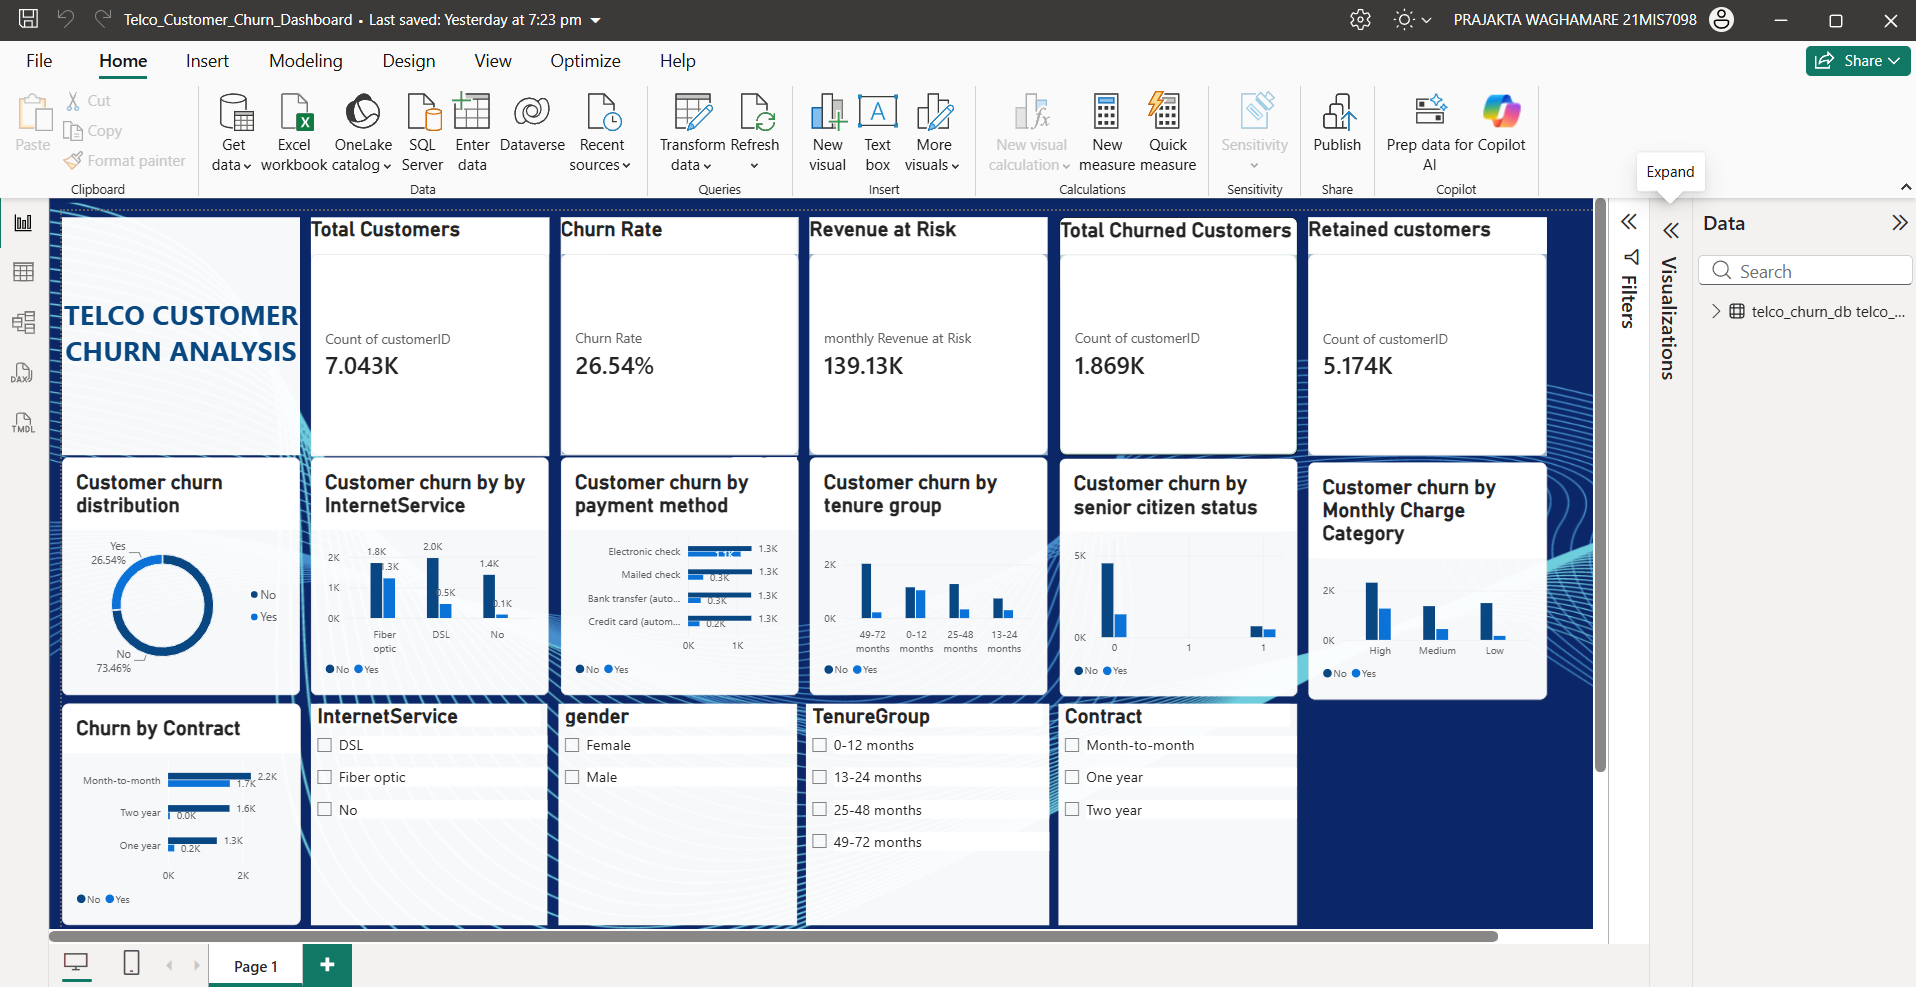

The dashboard page shown, as its layout file describes it:
{"tool":"powerbi","page":{"name":"Page 1","canvas":[1920,1080],"ordinal":0},"visuals":[{"type":"cardVisual","title":"Total Customers","fields":{"Data":["CountNonNull(telco_churn_db telco_customers.customerID)"]},"box":[293.1,8,280.7,280.7],"z":0},{"type":"cardVisual","title":"Total Churned Customers","fields":{"Data":["Count(telco_churn_db telco_customers.customerID)"]},"box":[1173,8,280,280],"z":1000},{"type":"cardVisual","title":"Retained customers","fields":{"Data":["Count(telco_churn_db telco_customers.customerID)"]},"box":[1465.6,7.3,280.6,280.6],"z":2000},{"type":"cardVisual","title":"Churn Rate","fields":{"Data":["telco_churn_db telco_customers.Churn Rate"]},"box":[586.8,8,280,280],"z":3000},{"type":"cardVisual","title":"Revenue at Risk","fields":{"Data":["telco_churn_db telco_customers.monthly Revenue at Risk"]},"box":[879.9,8,280,280],"z":4000},{"type":"clusteredBarChart","title":"Churn by Contract","fields":{"Category":["telco_churn_db telco_customers.Contract"],"Series":["telco_churn_db telco_customers.Churn"],"Y":["Count(telco_churn_db telco_customers.customerID)"]},"box":[0,579.6,280.6,260.5],"z":5000},{"type":"donutChart","title":"Customer churn distribution","fields":{"Category":["telco_churn_db telco_customers.Churn"],"Y":["CountNonNull(telco_churn_db telco_customers.customerID)"]},"box":[0,290,280,280],"z":5001},{"type":"clusteredColumnChart","title":"Customer churn by by InternetService ","fields":{"Category":["telco_churn_db telco_customers.InternetService"],"Series":["telco_churn_db telco_customers.Churn"],"Y":["Count(telco_churn_db telco_customers.customerID)"]},"box":[293.2,290.2,279.9,279.9],"z":5002},{"type":"clusteredBarChart","title":"Customer churn by payment method","fields":{"Category":["telco_churn_db telco_customers.PaymentMethod"],"Series":["telco_churn_db telco_customers.Churn"],"Y":["Count(telco_churn_db telco_customers.customerID)"]},"box":[586.4,290.2,279.9,279.9],"z":5003},{"type":"clusteredColumnChart","title":"Customer churn by tenure group","fields":{"Category":["telco_churn_db telco_customers.TenureGroup"],"Series":["telco_churn_db telco_customers.Churn"],"Y":["Count(telco_churn_db telco_customers.customerID)"]},"box":[879.6,290.2,280,280],"z":5004},{"type":"clusteredColumnChart","title":"Customer churn by senior citizen status","fields":{"Category":["telco_churn_db telco_customers.SeniorCitizen"],"Series":["telco_churn_db telco_customers.Churn"],"Y":["Count(telco_churn_db telco_customers.customerID)"]},"box":[1172.8,290.8,280,280],"z":5005},{"type":"clusteredColumnChart","title":"Customer churn by Monthly Charge Category","fields":{"Category":["telco_churn_db telco_customers.MonthlyChargeCategory"],"Series":["telco_churn_db telco_customers.Churn"],"Y":["Count(telco_churn_db telco_customers.customerID)"]},"box":[1465.6,295.3,280.6,278.8],"z":5006},{"type":"slicer","fields":{"Values":["telco_churn_db telco_customers.Contract"]},"box":[1172.1,579.6,280.7,260.5],"z":5007},{"type":"slicer","fields":{"Values":["telco_churn_db telco_customers.InternetService"]},"box":[292.8,579.6,278.7,260.5],"z":5008},{"type":"slicer","fields":{"Values":["telco_churn_db telco_customers.gender"]},"box":[583.6,579.6,280.7,260.5],"z":5009},{"type":"slicer","fields":{"Values":["telco_churn_db telco_customers.TenureGroup"]},"box":[874.4,579.6,286.7,260.5],"z":5010},{"type":"textbox","box":[0,8,280,280],"z":5011}]}

Visuals, with their boxes in screenshot pixels (x1, y1, x2, y2):
"Total Customers" cardVisual: crop(300, 0, 544, 211)
"Total Churned Customers" cardVisual: crop(1066, 0, 1309, 211)
"Retained customers" cardVisual: crop(1320, 0, 1564, 211)
"Churn Rate" cardVisual: crop(556, 0, 799, 211)
"Revenue at Risk" cardVisual: crop(811, 0, 1054, 211)
"Churn by Contract" clusteredBarChart: crop(45, 464, 289, 691)
"Customer churn distribution" donutChart: crop(45, 212, 289, 456)
"Customer churn by by InternetService " clusteredColumnChart: crop(300, 213, 544, 456)
"Customer churn by payment method" clusteredBarChart: crop(555, 213, 799, 456)
"Customer churn by tenure group" clusteredColumnChart: crop(810, 213, 1054, 456)
"Customer churn by senior citizen status" clusteredColumnChart: crop(1065, 213, 1309, 457)
"Customer churn by Monthly Charge Category" clusteredColumnChart: crop(1320, 217, 1564, 460)
slicer - telco_churn_db telco_customers.Contract: crop(1065, 464, 1309, 691)
slicer - telco_churn_db telco_customers.InternetService: crop(300, 464, 542, 691)
slicer - telco_churn_db telco_customers.gender: crop(553, 464, 797, 691)
slicer - telco_churn_db telco_customers.TenureGroup: crop(806, 464, 1055, 691)
textbox: crop(45, 0, 289, 211)
